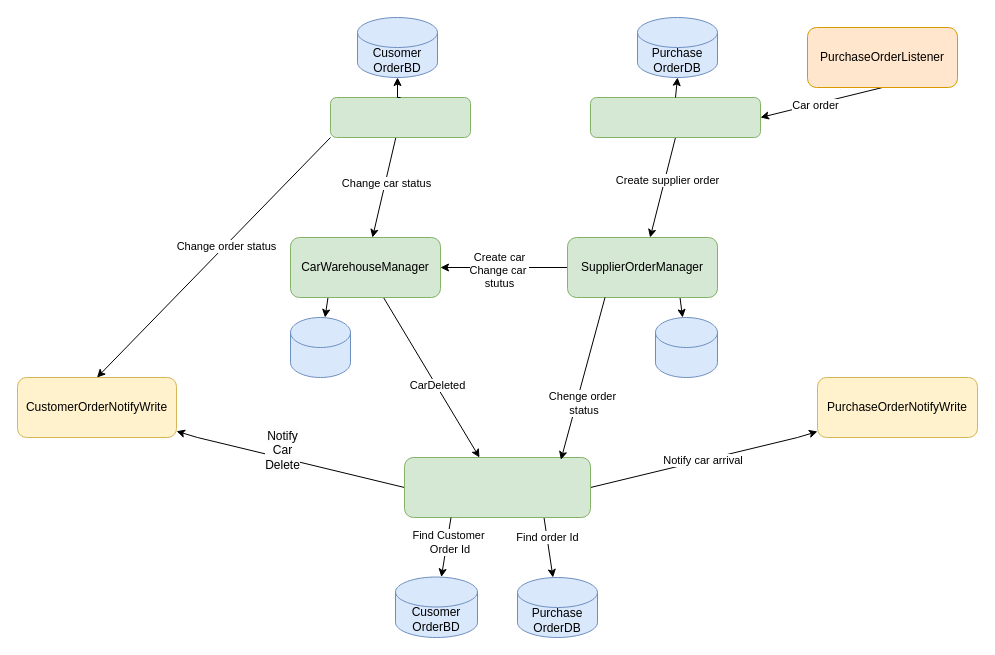
This 995x655 diagram has some shape labels left out. The centre of each missing label's shape, as x and y in pixels:
"CarDB" belongs at point (320, 347).
"Change OrderStatusManager" belongs at point (497, 487).
"CustomerOrderManager" belongs at point (400, 117).
"PurchaseOrderManager" belongs at point (675, 117).
"Supplier Order DB" belongs at point (686, 347).
